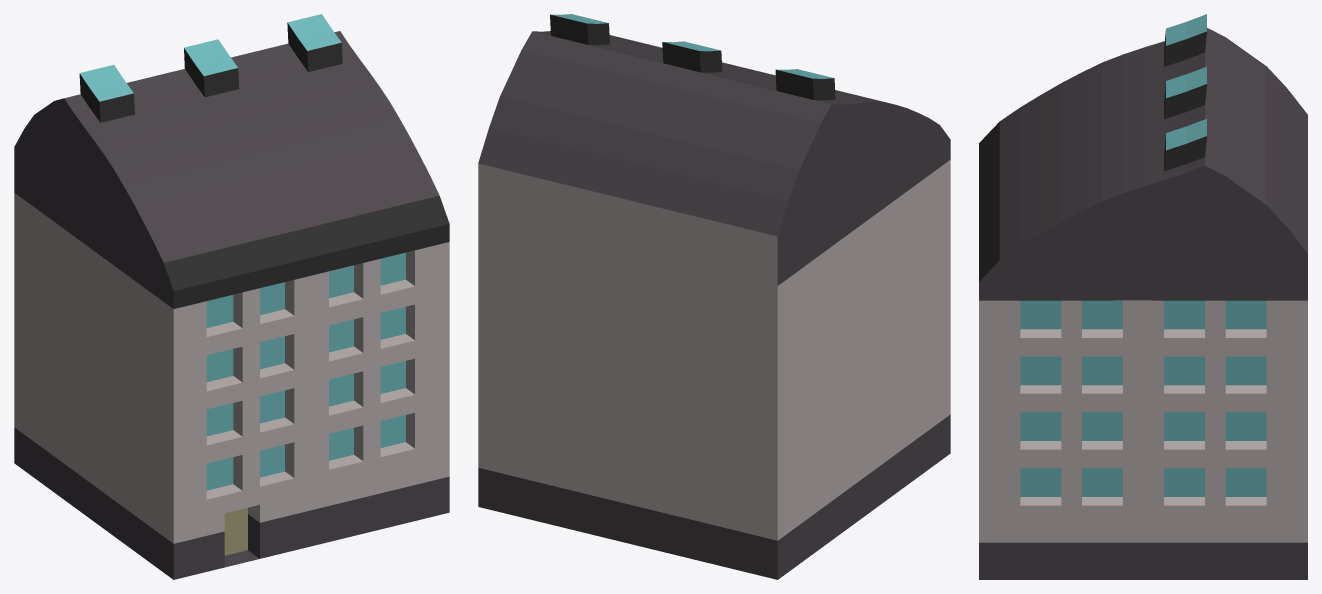
Rendered from studio.fbx.
3 views of the same model, side by side, from view 1: azimuth 30°, elevation 25°; view 2: azimuth 150°, elevation 25°; view 3: azimuth 270°, elevation 25° (orthographic). The views are drawn at different scales.
Visible parts, largest first — view 1: Cube.002; view 2: Cube.002; view 3: Cube.002.
Part boxes in pixels (box(x1,y1,x2,y2)): Cube.002: box(14, 14, 449, 579); Cube.002: box(478, 14, 950, 579); Cube.002: box(979, 14, 1307, 579).
Size of the model in its own units: 702 by 702 by 1026.
